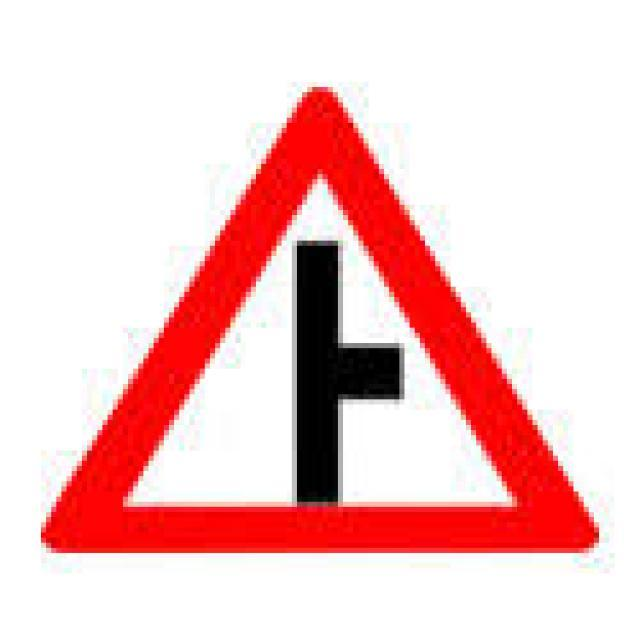side road right: (41, 80, 604, 560)
